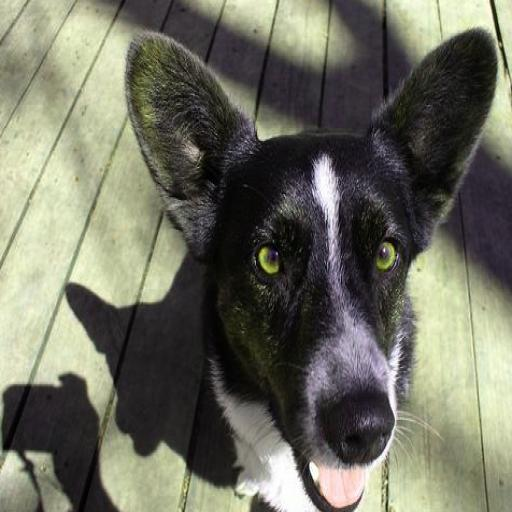dog_face: (129, 17, 512, 512)
